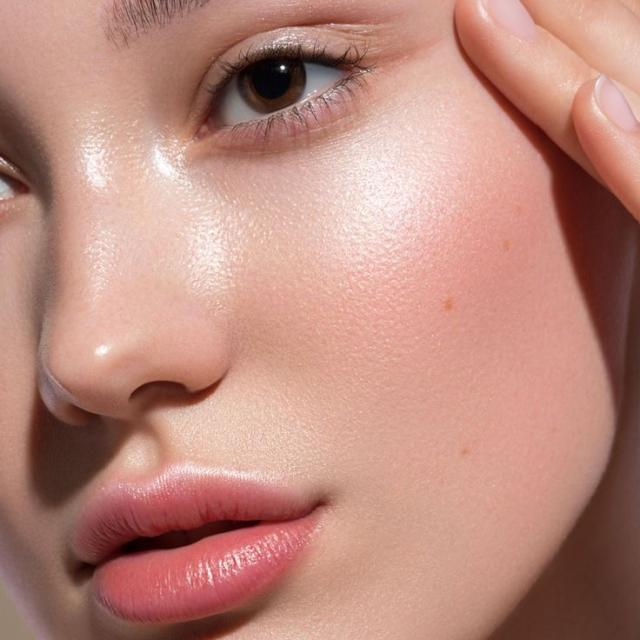Oily-Skin: (101, 218, 296, 459), (316, 259, 451, 435), (370, 153, 513, 292), (494, 407, 612, 565), (26, 5, 122, 141), (374, 516, 475, 640), (308, 440, 379, 583), (381, 378, 527, 419)
